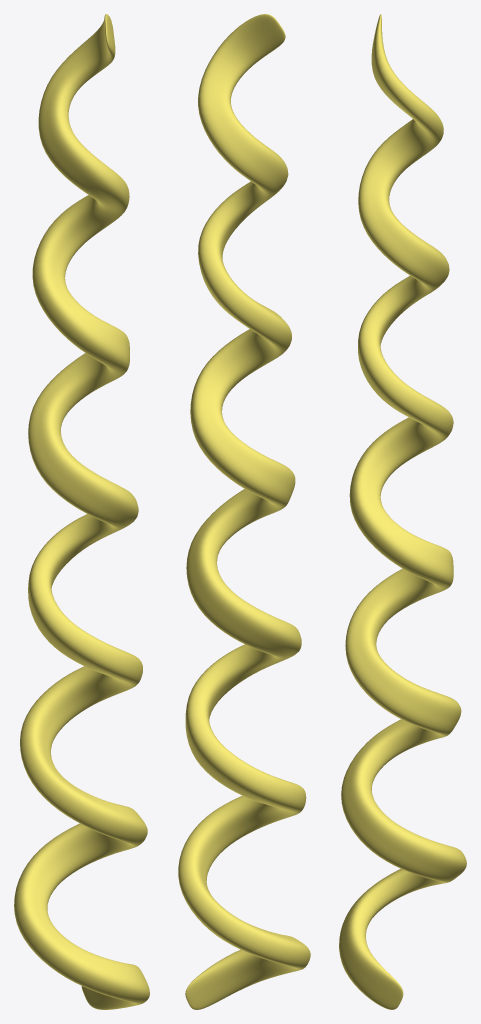
Rendered from Fusili.007.gltf.
3 views of the same model, side by side, from view 1: azimuth 90°, elevation 25°; view 2: azimuth 150°, elevation 25°; view 3: azimuth 270°, elevation 25° (orthographic). The views are drawn at different scales.
Visible parts, largest first — view 1: Fusili.007; view 2: Fusili.007; view 3: Fusili.007.
Part boxes in pixels (x1,y1,x2,y2): Fusili.007: (14,14,149,1009); Fusili.007: (178,14,310,1009); Fusili.007: (339,14,466,1009).
Size of the model in its own units: 0.305 by 2.54 by 0.305.
